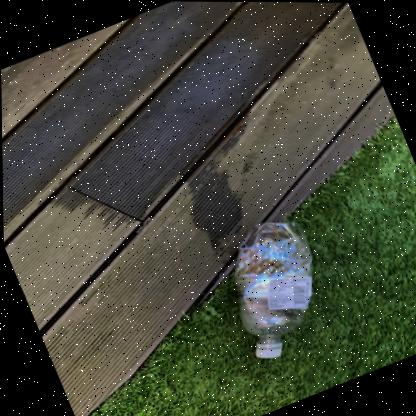Plastic: (232, 221, 311, 357)
